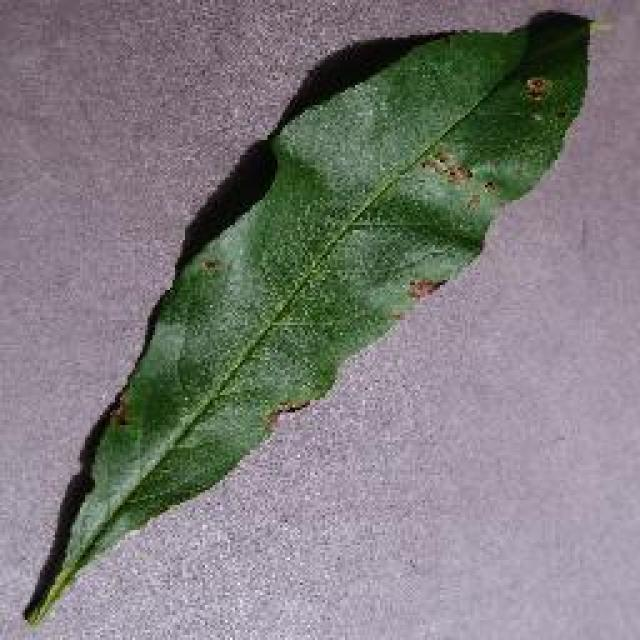Peach_Bacterial_Spot: (352, 138, 588, 342)
